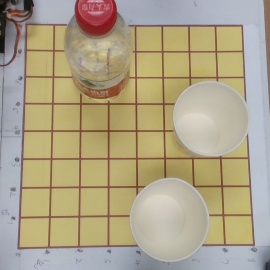bottle: (62, 0, 134, 112)
cup: (122, 177, 209, 262), (171, 80, 249, 161)
